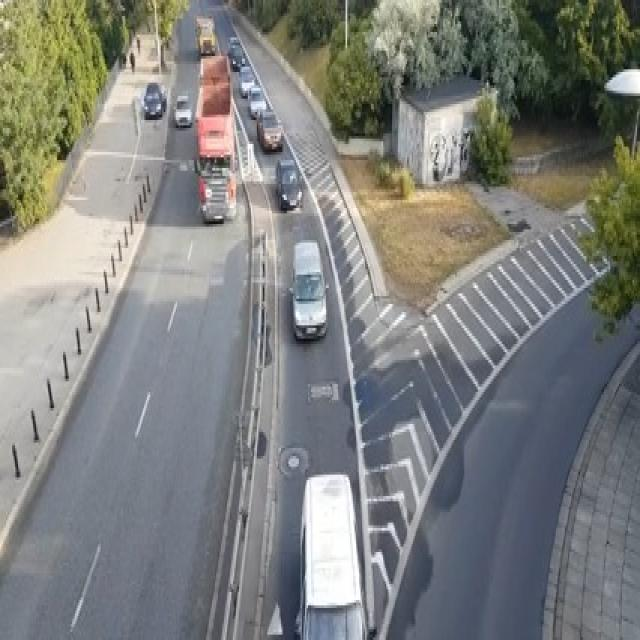bus: (296, 472, 367, 637)
car: (288, 240, 328, 341), (197, 163, 236, 221), (275, 157, 302, 211), (255, 110, 282, 150), (141, 80, 167, 117), (173, 93, 192, 128), (248, 83, 267, 117), (239, 64, 255, 96), (228, 43, 245, 69)
